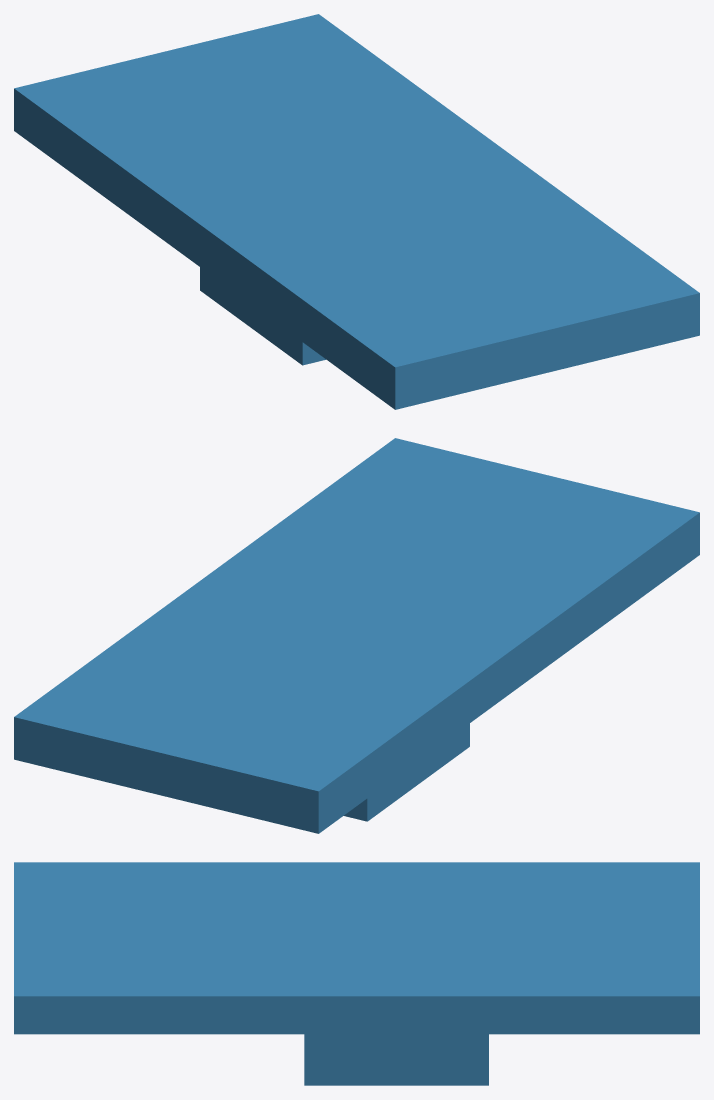
File: AMS1117-3.3_v3_4.glb
3 renders of one model, top to bottom at view 1: azimuth 30°, elevation 25°; view 2: azimuth 150°, elevation 25°; view 3: azimuth 270°, elevation 25°, orthographic. The views are drawn at different scales.
Parts seen in each view (by area): view 1: AMS1117-3.3_v3_4; view 2: AMS1117-3.3_v3_4; view 3: AMS1117-3.3_v3_4.
Part boxes in pixels (left/top/right/bottom): AMS1117-3.3_v3_4: left=14, top=14, right=699, bottom=409; AMS1117-3.3_v3_4: left=14, top=438, right=699, bottom=833; AMS1117-3.3_v3_4: left=14, top=862, right=699, bottom=1085.
Size of the model in its own units: 12 by 5 by 26.
